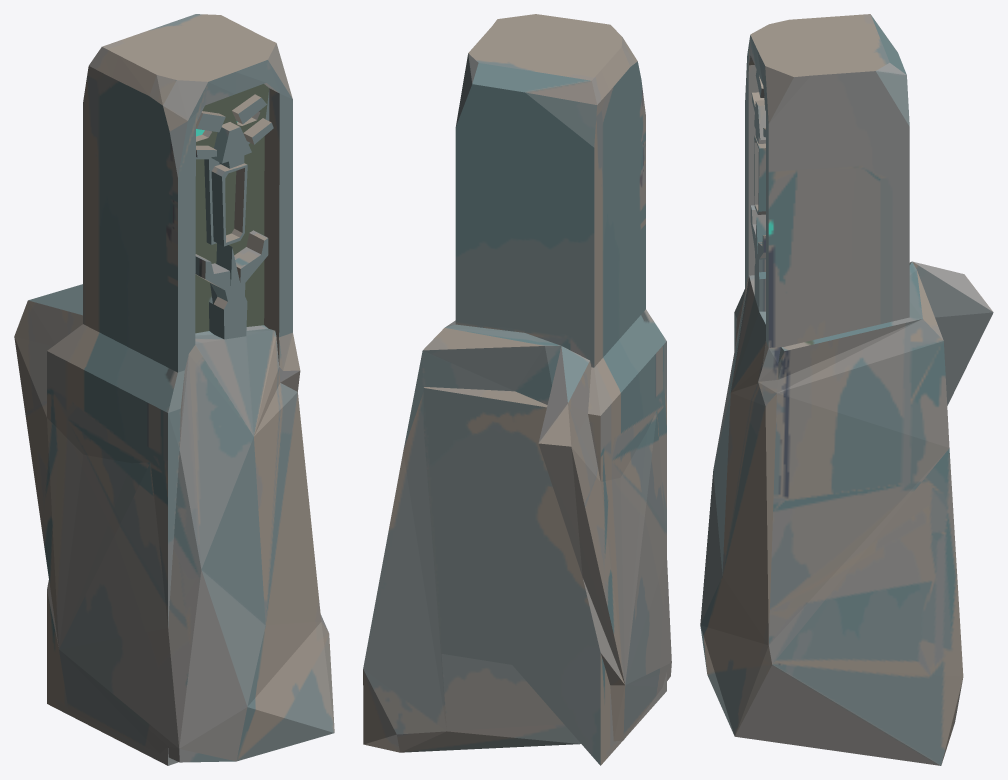
The model's file is s_stone ghost02_02.fbx.
The picture shows the model from 3 angles, left to right: view 1: azimuth 30°, elevation 25°; view 2: azimuth 150°, elevation 25°; view 3: azimuth 270°, elevation 25°; orthographic projection. The views are drawn at different scales.
Parts seen in each view (by area): view 1: s_stone ghost02_02; view 2: s_stone ghost02_02; view 3: s_stone ghost02_02.
Boxes of the visible parts, bbox=[...] form: s_stone ghost02_02: bbox=[14, 14, 334, 765]; s_stone ghost02_02: bbox=[363, 14, 671, 765]; s_stone ghost02_02: bbox=[700, 14, 993, 765].
Bounding box in the file's own units: 183 × 522 × 209.
1 material, 1 textured.
